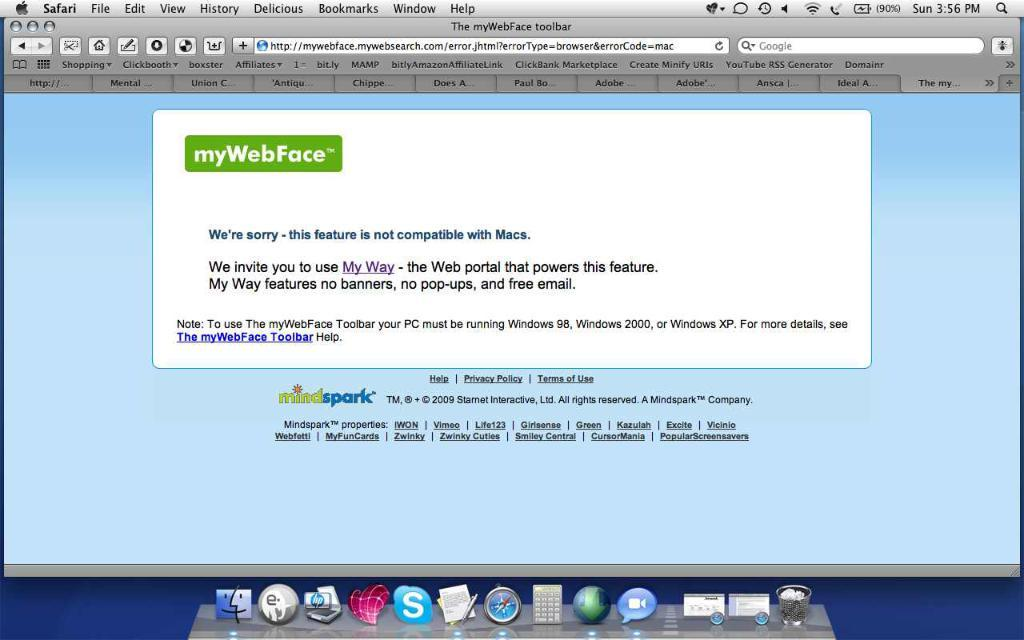Computer-monitor: (15, 18, 1011, 640)
